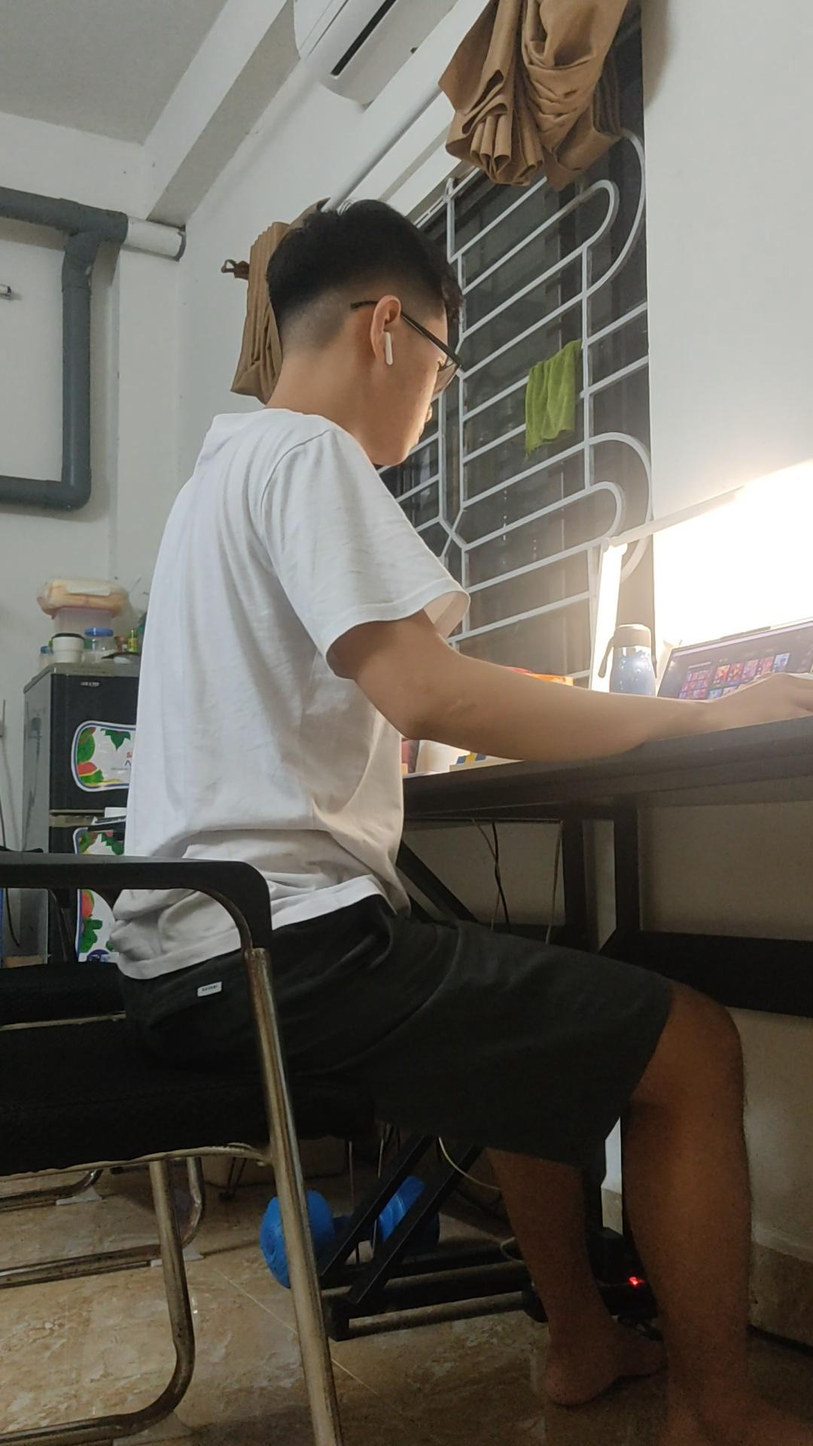GoodPosture: (126, 202, 812, 1445)
